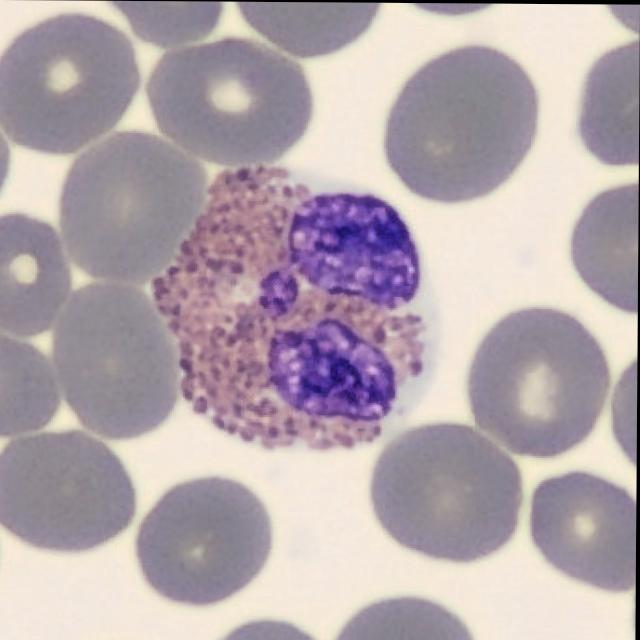Eosinofilo: (153, 165, 432, 448)
